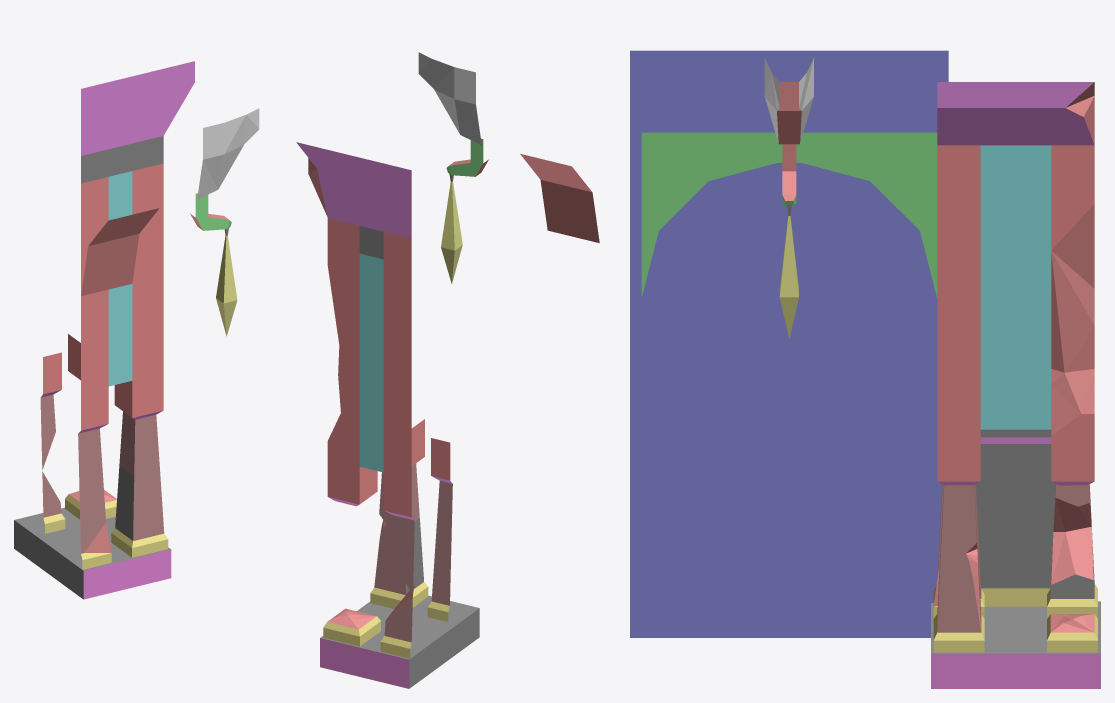
File: SSQ_BRoom02_wall01.gltf
The picture shows the model from 3 angles, left to right: view 1: azimuth 30°, elevation 25°; view 2: azimuth 150°, elevation 25°; view 3: azimuth 270°, elevation 25°; orthographic projection. The views are drawn at different scales.
Parts seen in each view (by area): view 1: SSQ_BRoom02_wall01; view 2: SSQ_BRoom02_wall01; view 3: SSQ_BRoom02_wall01.
Boxes of the visible parts, box(x1,y1,x2,y2) form: SSQ_BRoom02_wall01: box(14, 61, 259, 599); SSQ_BRoom02_wall01: box(296, 52, 599, 688); SSQ_BRoom02_wall01: box(630, 50, 1100, 688).
Size of the model in its own units: 0.91 by 3.88 by 2.66.
